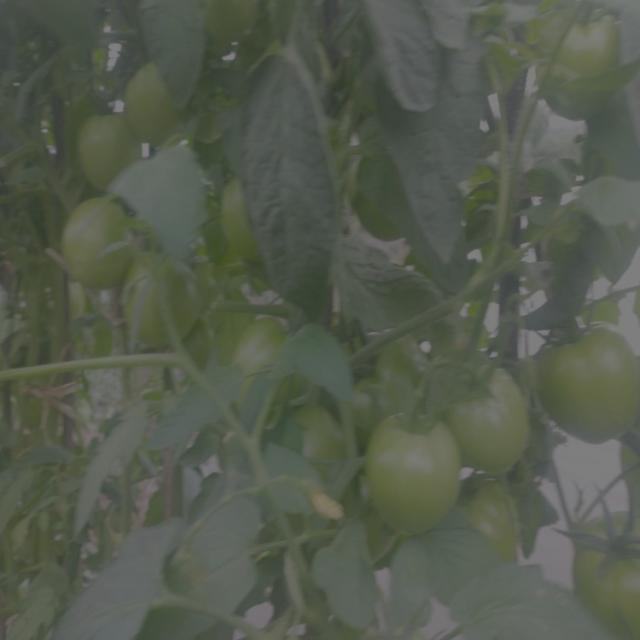tomato: (536, 313, 637, 442), (366, 407, 464, 527), (459, 356, 531, 478), (547, 8, 625, 119), (571, 508, 640, 628), (272, 396, 355, 484), (118, 256, 198, 343), (62, 192, 137, 276), (218, 306, 292, 375), (74, 113, 143, 181), (467, 483, 527, 554), (126, 64, 180, 140), (352, 340, 414, 404), (225, 179, 257, 257)
